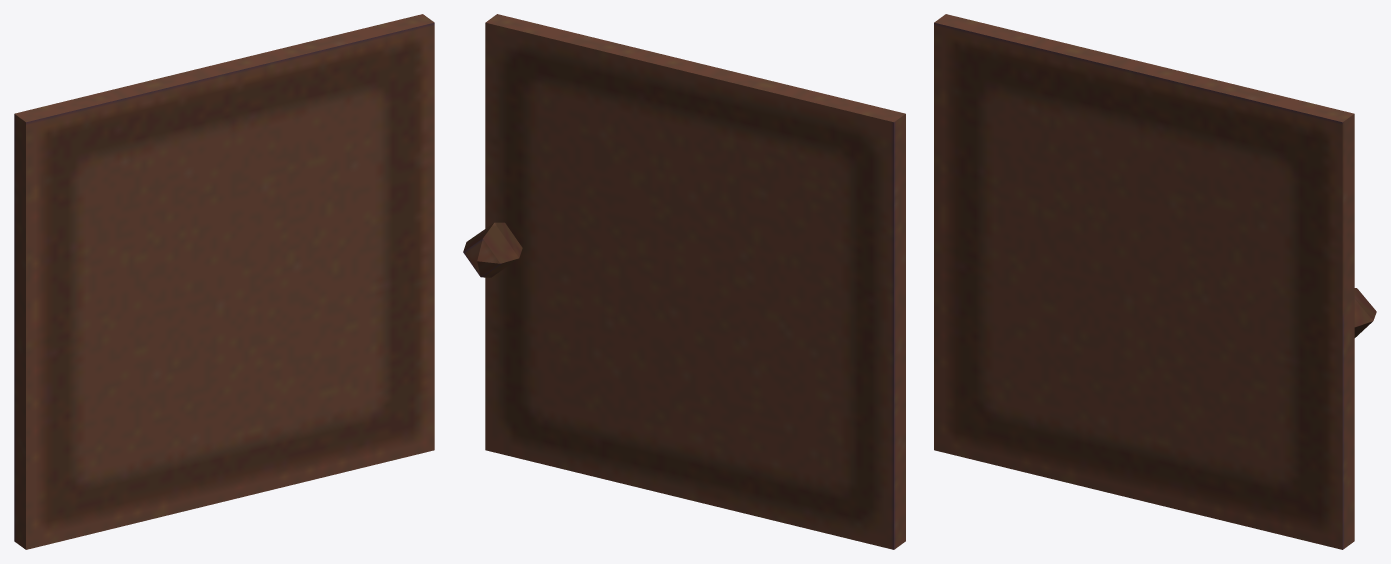
File: small_cabinet_door.fbx
3 renders of one model, left to right at view 1: azimuth 30°, elevation 25°; view 2: azimuth 150°, elevation 25°; view 3: azimuth 330°, elevation 25°, orthographic.
Visible parts, largest first — view 1: Cabinet Door; view 2: Cabinet Door; view 3: Cabinet Door.
Boxes of the visible parts, left/top/right/bottom form: Cabinet Door: left=14, top=14, right=434, bottom=549; Cabinet Door: left=463, top=14, right=905, bottom=549; Cabinet Door: left=934, top=14, right=1376, bottom=549.
Bounding box in the file's own units: 1.02 × 0.162 × 1.
Materials: 1 (1 with a texture image).
